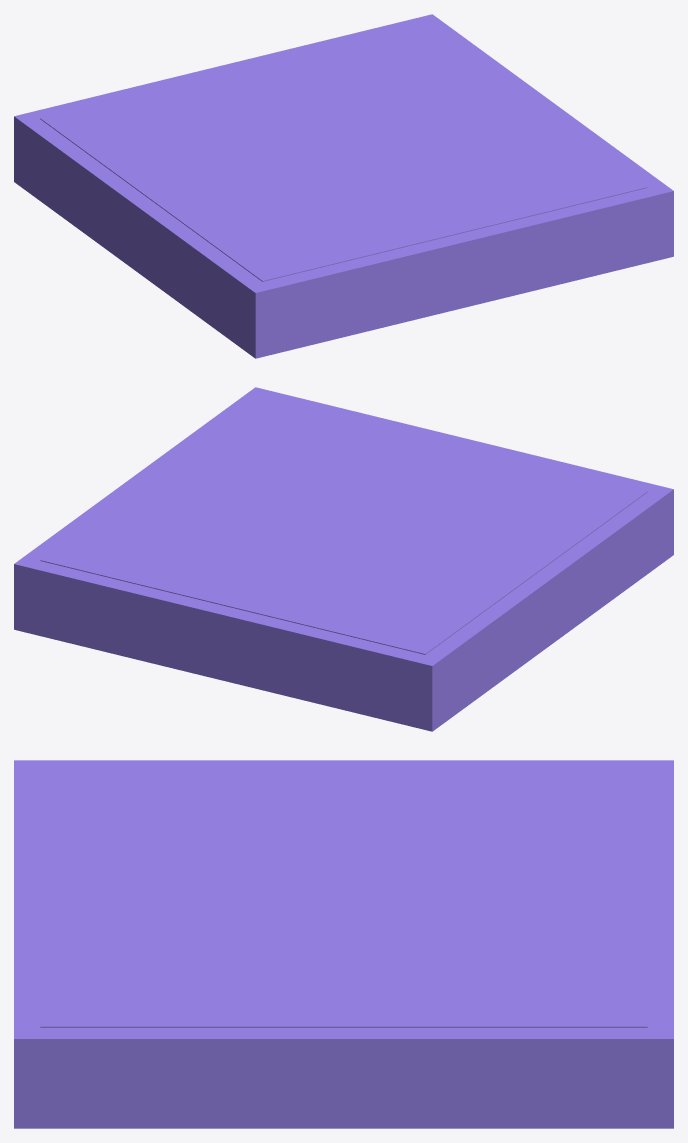
Rendered from turnright.glb.
3 renders of one model, top to bottom at view 1: azimuth 30°, elevation 25°; view 2: azimuth 150°, elevation 25°; view 3: azimuth 270°, elevation 25°, orthographic. The views are drawn at different scales.
Parts seen in each view (by area): view 1: 立方体.001, 立方体; view 2: 立方体.001, 立方体; view 3: 立方体.001, 立方体.
Boxes of the visible parts, <box> form: 立方体.001: <box>40,24,647,281</box>; 立方体: <box>14,14,673,358</box>; 立方体.001: <box>40,397,647,654</box>; 立方体: <box>14,387,673,731</box>; 立方体.001: <box>40,770,647,1027</box>; 立方体: <box>14,760,673,1128</box>.
Size of the model in its own units: 2 by 0.304 by 2.
